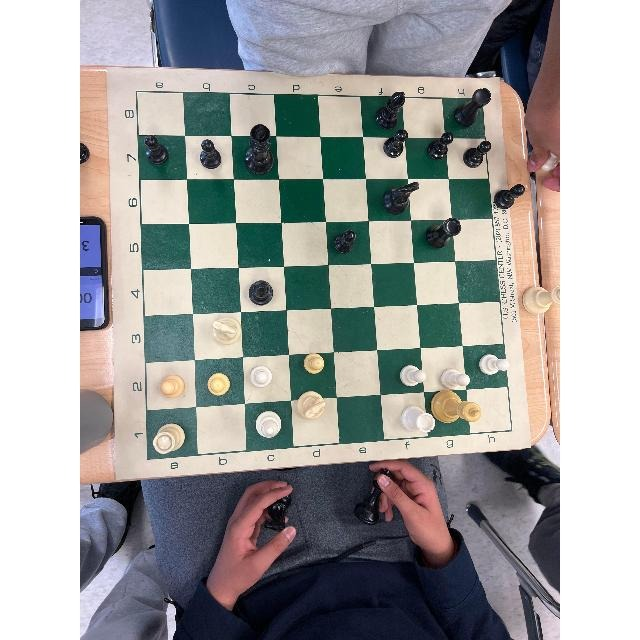black-bishop: (374, 91, 405, 130), (248, 280, 273, 305)
black-king: (244, 125, 274, 175)
black-knight: (383, 181, 419, 214)
black-pawn: (463, 141, 491, 169), (143, 135, 168, 166), (383, 128, 408, 158), (428, 132, 454, 160), (201, 139, 221, 168), (334, 230, 356, 254)
black-rook: (454, 87, 492, 127), (426, 217, 461, 248)
white-bishop: (256, 411, 282, 437)
white-king: (430, 391, 481, 423)
white-knight: (297, 390, 325, 419), (213, 317, 241, 345)
white-pawn: (441, 368, 470, 390), (160, 375, 186, 399), (399, 364, 426, 387), (478, 355, 509, 375), (207, 373, 230, 395), (249, 366, 272, 388), (303, 353, 324, 375)
white-rook: (153, 423, 185, 454), (401, 406, 435, 432)
